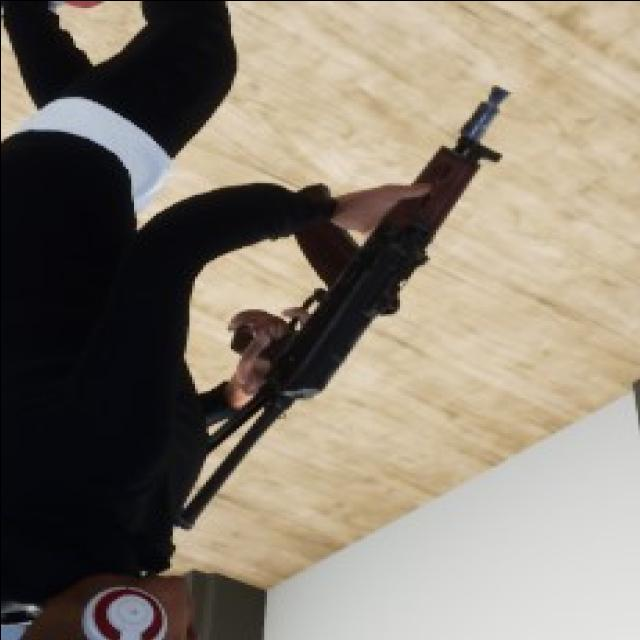rifle: (163, 83, 509, 533)
